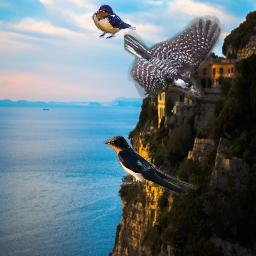Swallow: (102, 133, 200, 195), (91, 4, 136, 39)
Woodpecker: (124, 15, 225, 100)
